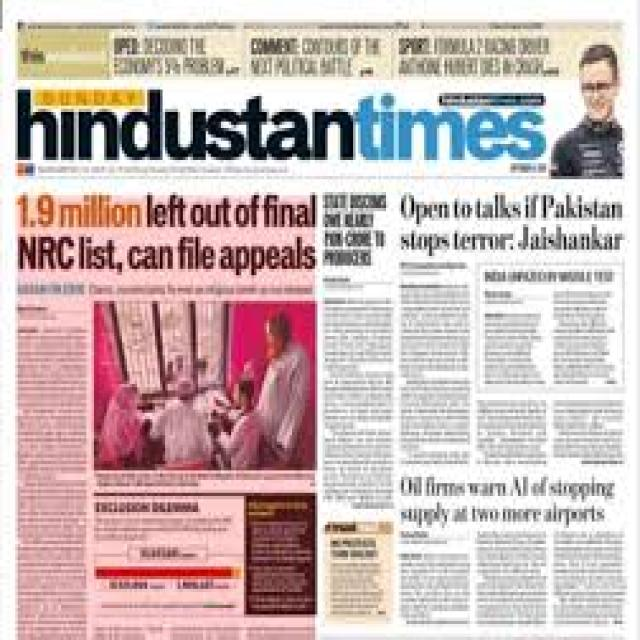paper: (12, 4, 626, 640)
